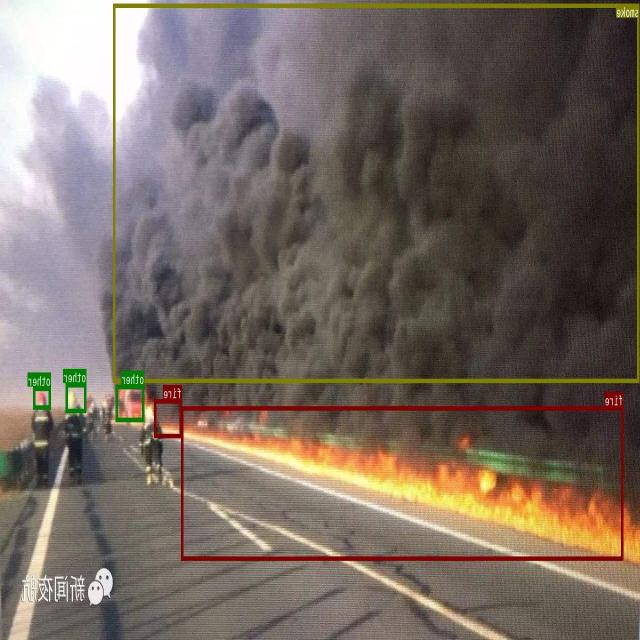fire: (182, 406, 623, 559), (155, 398, 182, 437)
other: (116, 384, 145, 421), (66, 383, 87, 412), (34, 386, 52, 408)
smoke: (113, 3, 640, 381)
